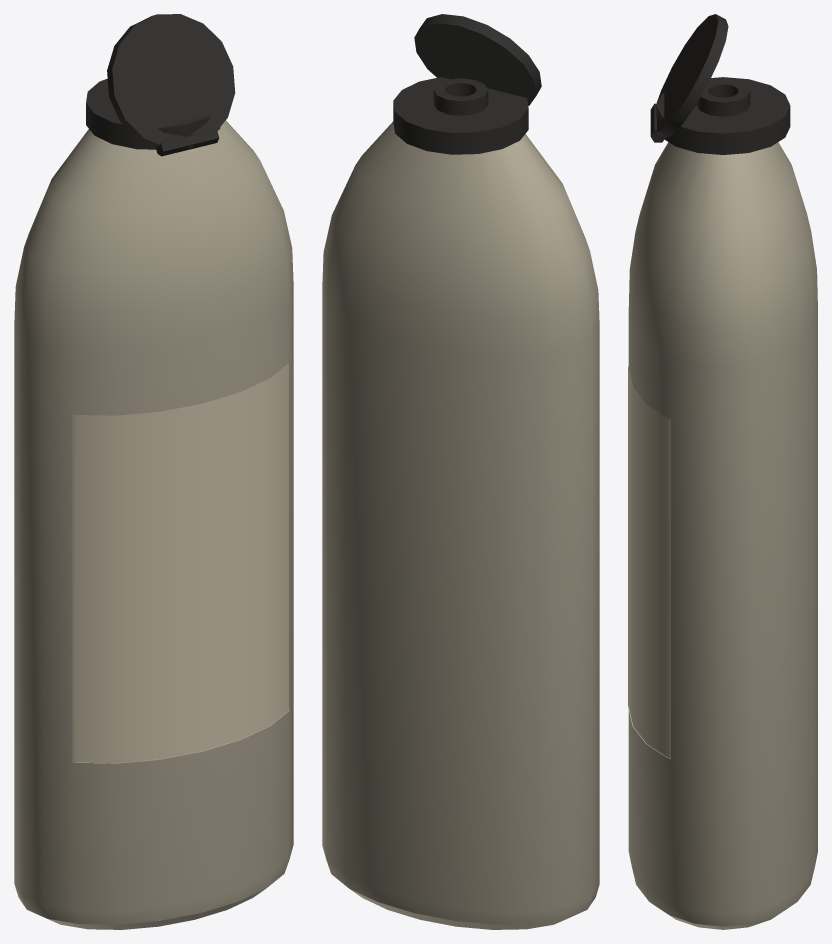
The model's file is shampoo-bottle-296116ce7dae.glb.
3 views of the same model, side by side, from view 1: azimuth 30°, elevation 25°; view 2: azimuth 150°, elevation 25°; view 3: azimuth 270°, elevation 25° (orthographic). The views are drawn at different scales.
Visible parts, largest first — view 1: plastic-light, paper, plastic-dark; view 2: plastic-light, plastic-dark; view 3: plastic-light, paper, plastic-dark.
Boxes of the visible parts, x1,y1,x2,y2 form: plastic-light: (14,120,293,929); paper: (72,361,289,763); plastic-dark: (86,14,235,156); plastic-light: (322,121,599,929); plastic-dark: (393,14,541,154); plastic-light: (628,142,817,929); paper: (628,366,670,758); plastic-dark: (650,14,790,154).
Bounding box in the file's own units: 0.075 × 0.2397 × 0.0482.
